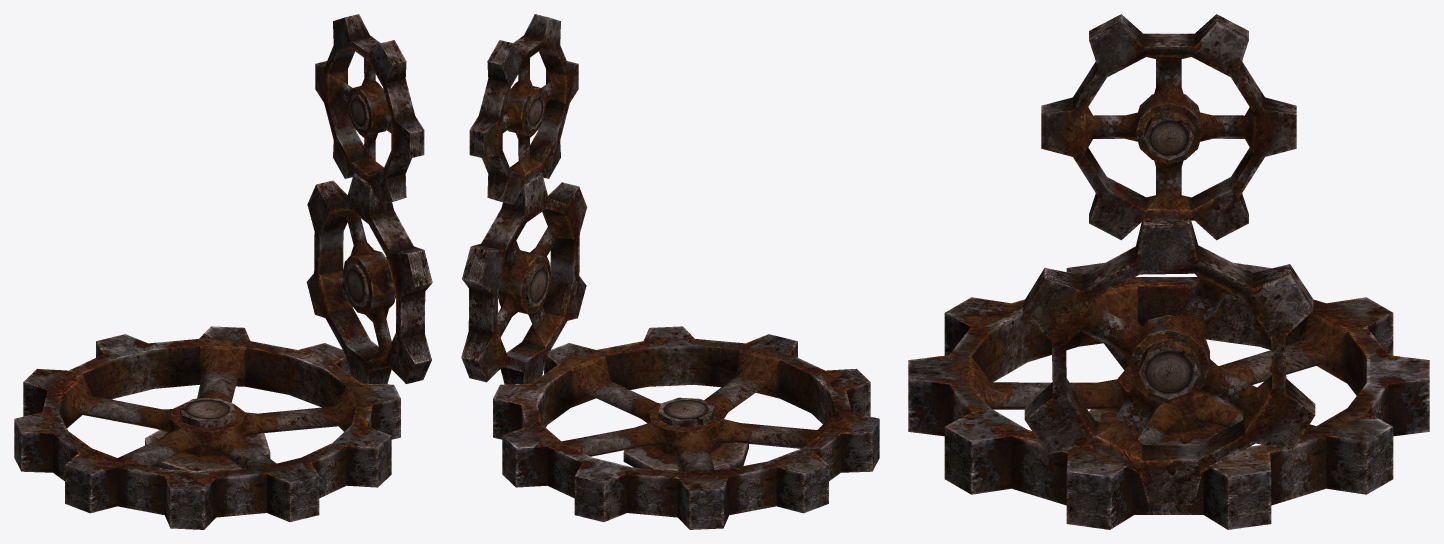
Rendered from cog_wheels_machinery.dae.
3 views of the same model, side by side, from view 1: azimuth 30°, elevation 25°; view 2: azimuth 150°, elevation 25°; view 3: azimuth 270°, elevation 25° (orthographic). The views are drawn at different scales.
Parts seen in each view (by area): view 1: polySurface16, polySurface13, polySurface17, pCylinder6, pCylinder8, pCylinder9; view 2: polySurface16, polySurface13, polySurface17, pCylinder6, pCylinder8, pCylinder9; view 3: polySurface16, polySurface13, polySurface17, pCylinder8, pCylinder9, pCylinder6.
Boxes of the visible parts, <box> form: polySurface16: <box>14,326,400,529</box>; polySurface13: <box>306,173,432,384</box>; polySurface17: <box>315,14,424,204</box>; pCylinder6: <box>145,397,270,471</box>; pCylinder8: <box>344,257,395,306</box>; pCylinder9: <box>349,94,369,128</box>; polySurface16: <box>493,326,879,529</box>; polySurface13: <box>461,172,587,384</box>; polySurface17: <box>469,14,578,204</box>; pCylinder6: <box>623,397,748,471</box>; pCylinder8: <box>498,264,549,306</box>; pCylinder9: <box>524,94,544,128</box>; polySurface16: <box>908,262,1429,529</box>; polySurface13: <box>1022,220,1315,505</box>; polySurface17: <box>1041,14,1296,240</box>; pCylinder8: <box>1138,340,1199,399</box>; pCylinder9: <box>1144,111,1193,160</box>; pCylinder6: <box>1089,373,1226,444</box>.
Bounding box in the file's own units: 3.07 × 3.28 × 2.98.
